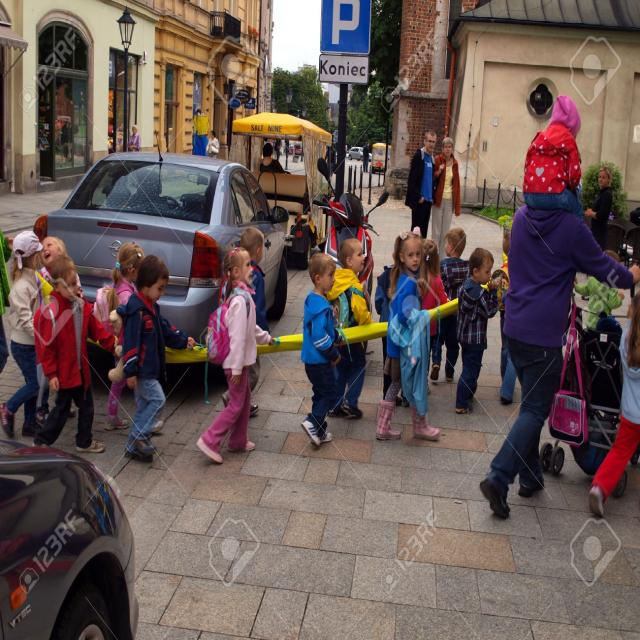body: (478, 202, 640, 521), (196, 246, 278, 466), (32, 253, 121, 455), (116, 253, 198, 465), (86, 236, 168, 437), (580, 284, 640, 524), (375, 226, 441, 443), (0, 229, 50, 443), (220, 226, 272, 417), (34, 234, 83, 425), (326, 236, 376, 419), (300, 252, 344, 446), (452, 244, 500, 418), (521, 94, 585, 222), (416, 238, 458, 396), (430, 226, 470, 382), (373, 234, 403, 407), (572, 249, 626, 333), (491, 252, 518, 407), (430, 136, 462, 262), (404, 128, 438, 242), (0, 213, 16, 406), (581, 164, 614, 252), (50, 114, 79, 166), (259, 142, 286, 174), (324, 144, 336, 197), (126, 124, 142, 152), (205, 130, 220, 159), (362, 140, 371, 173), (273, 137, 281, 161)
